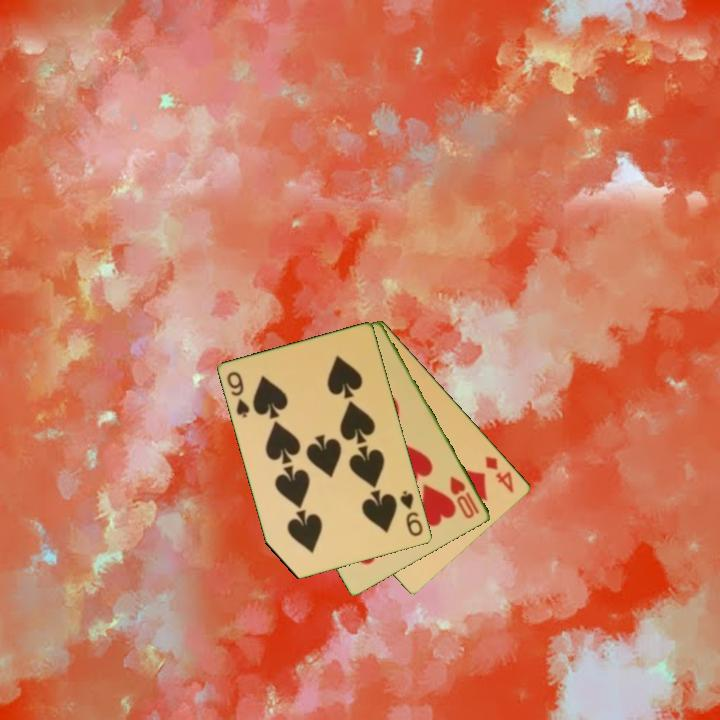10h: (446, 473, 483, 522)
4d: (482, 452, 517, 496)
9s: (397, 487, 426, 540), (224, 368, 253, 421)
